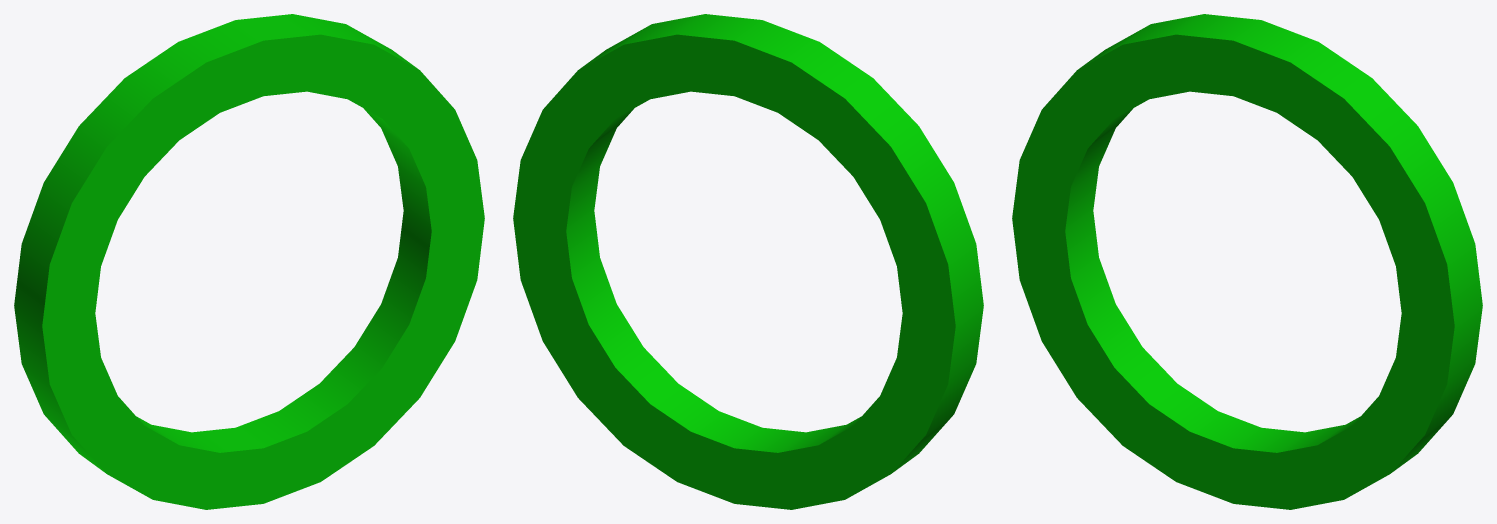
The model's file is selectedIndicator.dae.
The picture shows the model from 3 angles, left to right: view 1: azimuth 30°, elevation 25°; view 2: azimuth 150°, elevation 25°; view 3: azimuth 330°, elevation 25°; orthographic projection.
Parts seen in each view (by area): view 1: SketchUp (×2); view 2: SketchUp (×2); view 3: SketchUp (×2).
Part boxes in pixels (left/top/right/bottom): SketchUp (×2): left=14, top=14, right=484, bottom=509; SketchUp (×2): left=513, top=14, right=983, bottom=509; SketchUp (×2): left=1012, top=14, right=1482, bottom=509.
Bounding box in the file's own units: 120 × 13.2 × 120.
